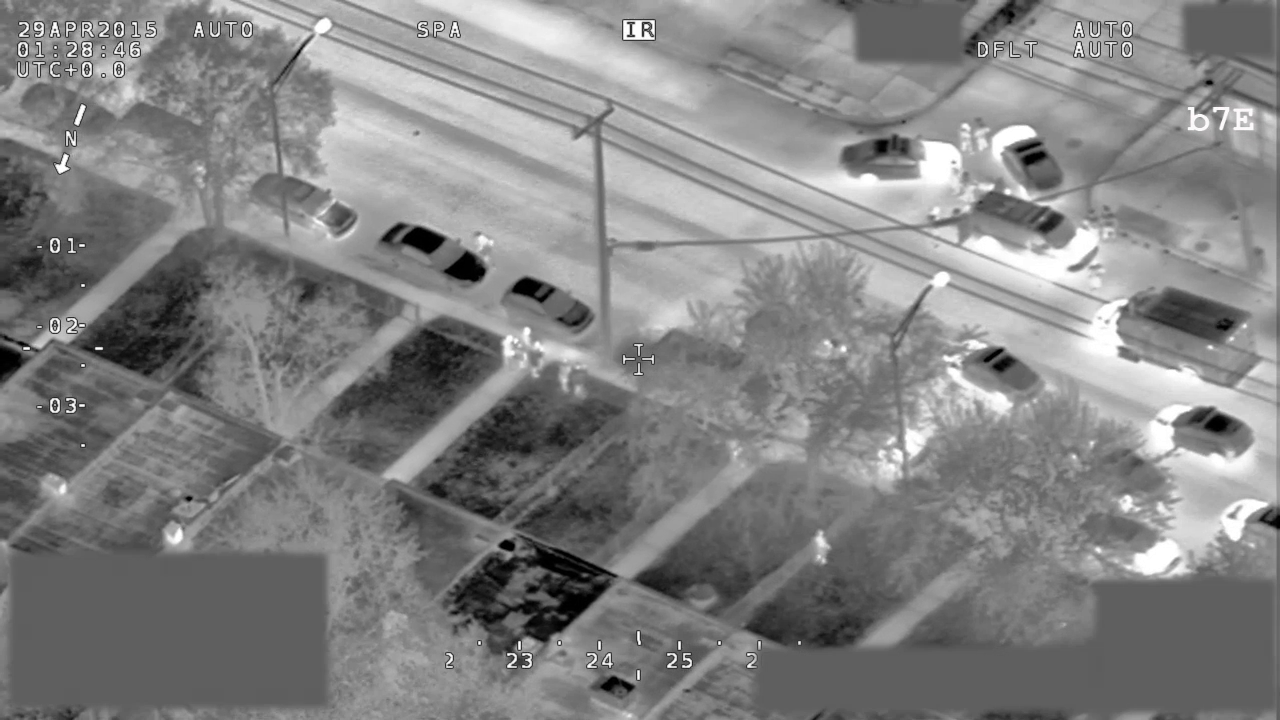vehicle: (1084, 289, 1268, 391), (632, 330, 793, 430), (951, 192, 1104, 275), (115, 106, 241, 199), (244, 170, 363, 250), (377, 221, 491, 298), (1073, 505, 1183, 580), (838, 132, 971, 189), (821, 402, 930, 471), (495, 272, 600, 343), (1146, 402, 1259, 467), (953, 337, 1051, 408), (19, 76, 121, 141), (988, 118, 1068, 197), (1222, 492, 1280, 558)
